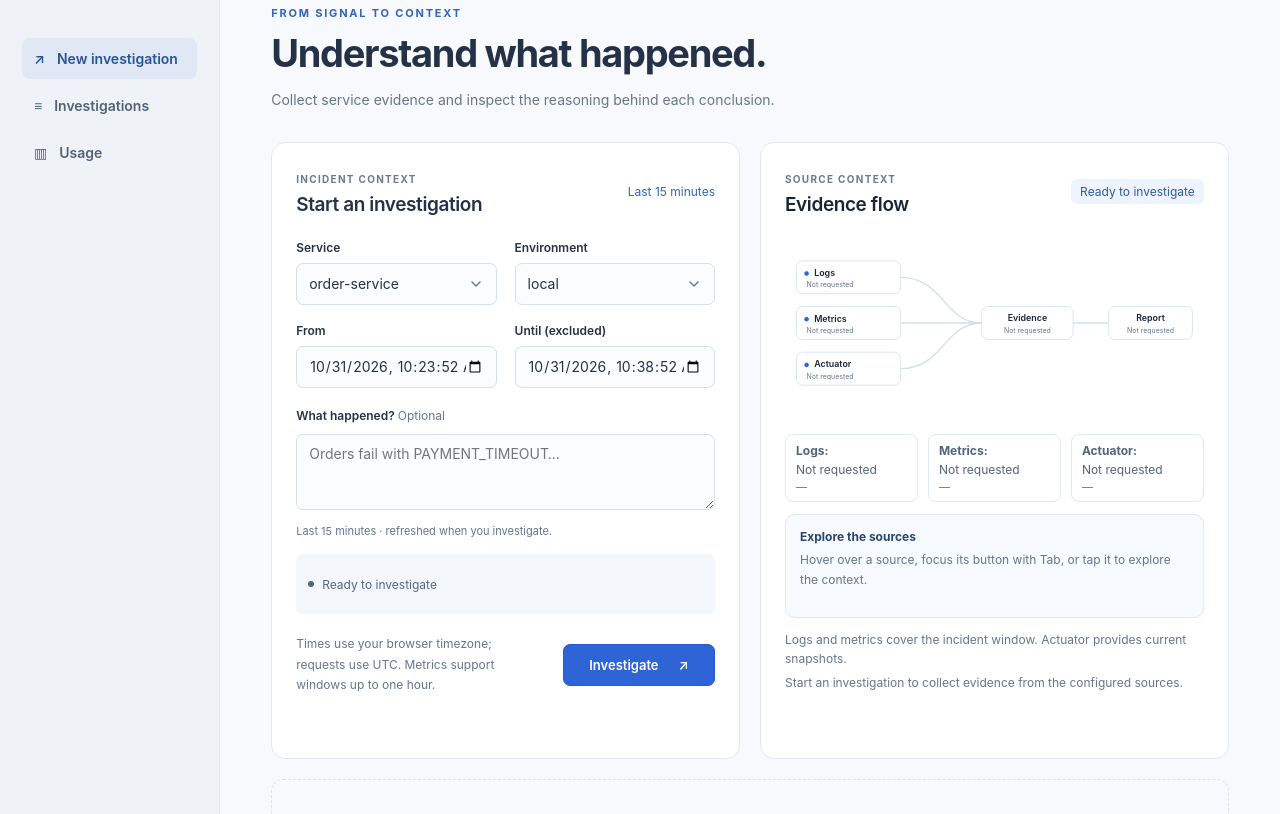
Test: investigation workspace › keeps the previous report and its selected tab during a new request, cancellation and failure
Click the button "Investigate ↗" at (639, 665), box left=563, top=644, right=715, bottom=686
(page scrolled)
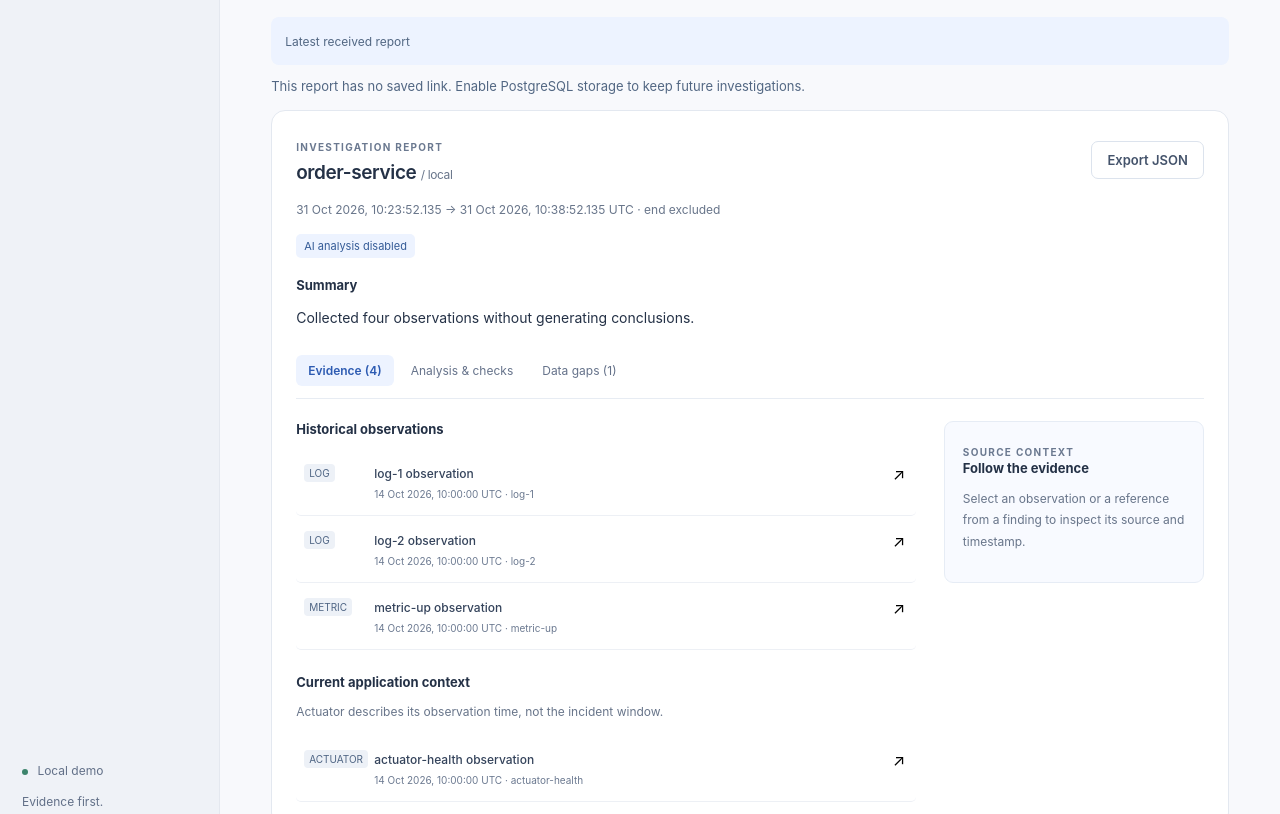
Click the button "Data gaps (1)" at (579, 370), box left=530, top=355, right=628, bottom=386
(page scrolled)
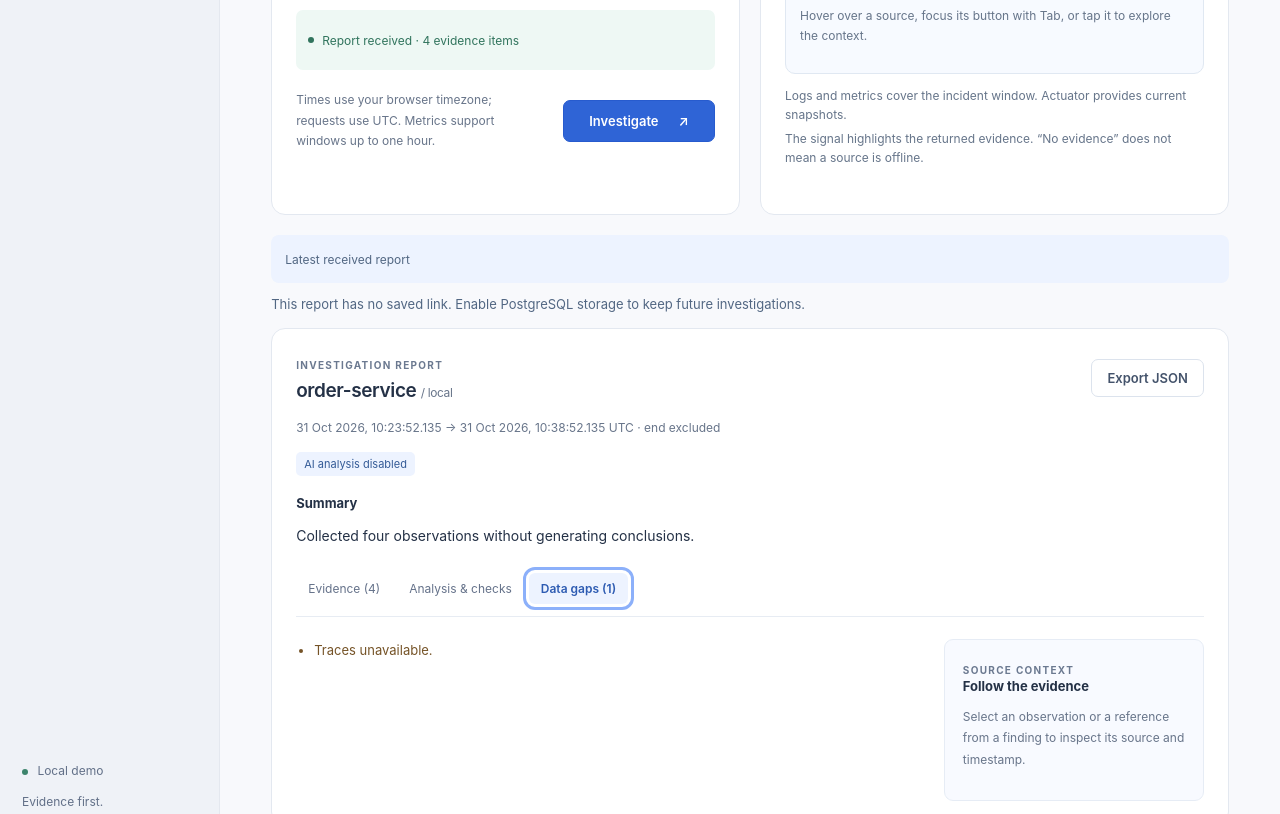
Result: the list item "Traces unavailable." is shown at left=314, top=642, right=433, bottom=658
Click the button "Investigate ↗" at (639, 121), box left=563, top=100, right=715, bottom=142
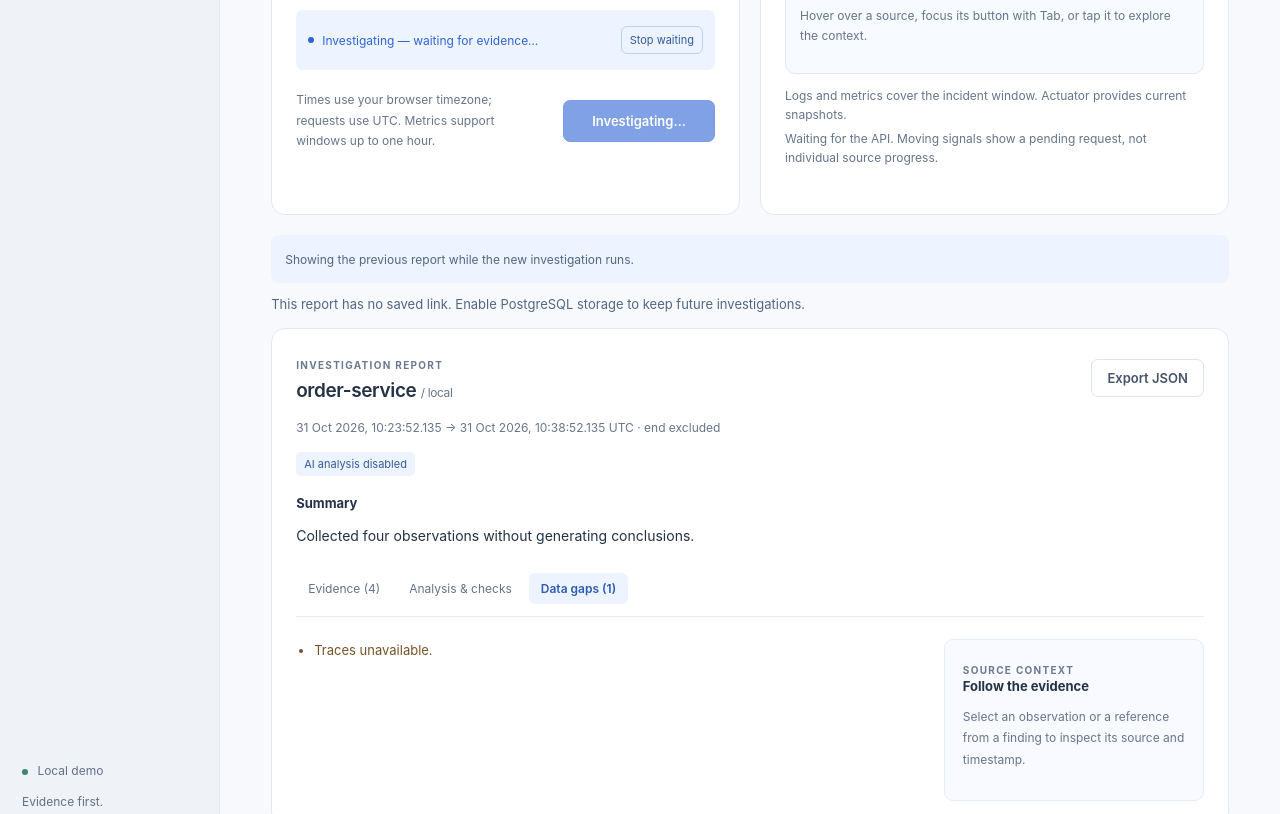
Result: the list item "Traces unavailable." is shown at left=314, top=642, right=433, bottom=658
Result: the text "Showing the previous report while the new investigation runs." is shown at left=271, top=235, right=1229, bottom=283
Click the button "Stop waiting" at (662, 40), box left=621, top=26, right=703, bottom=54
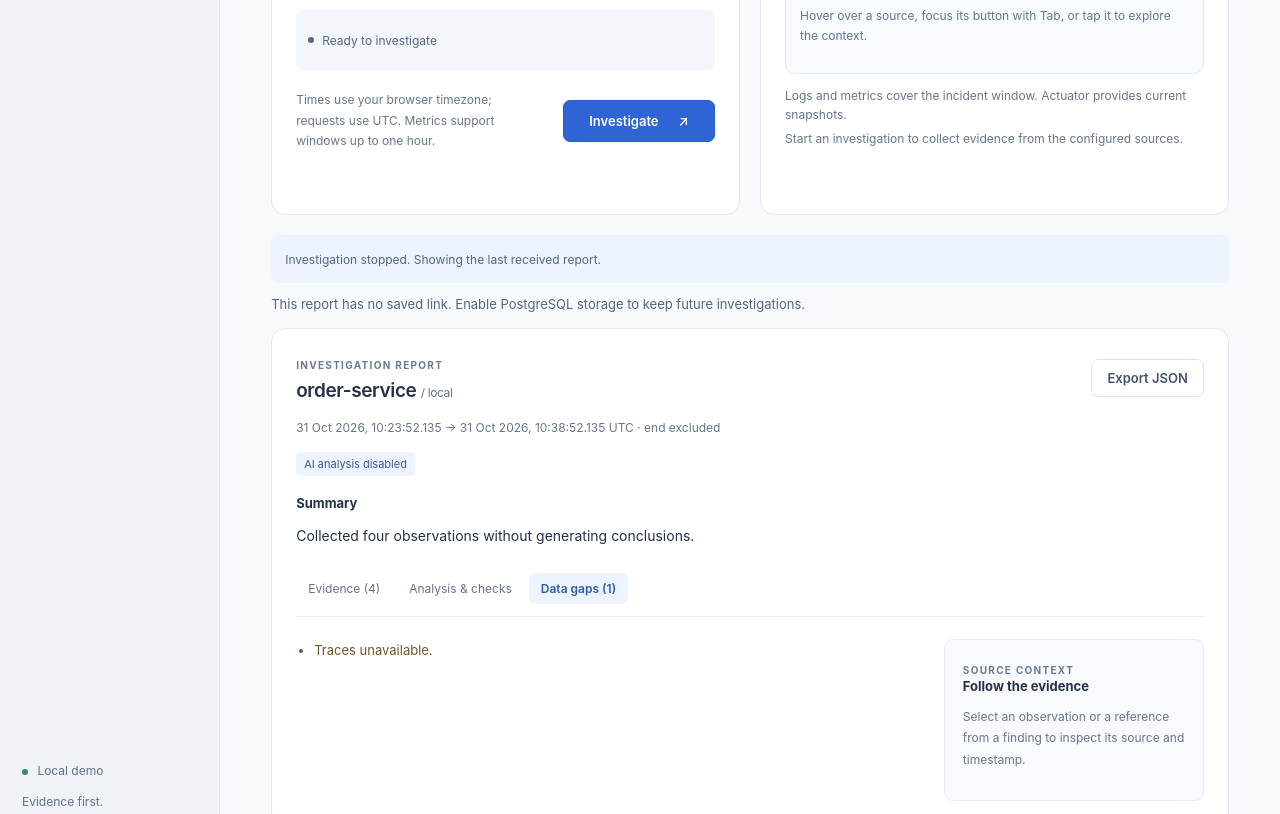
Result: the text "Investigation stopped. Showing the last received report." is shown at left=271, top=235, right=1229, bottom=283
Click the button "Investigate ↗" at (639, 121), box left=563, top=100, right=715, bottom=142
(page scrolled)
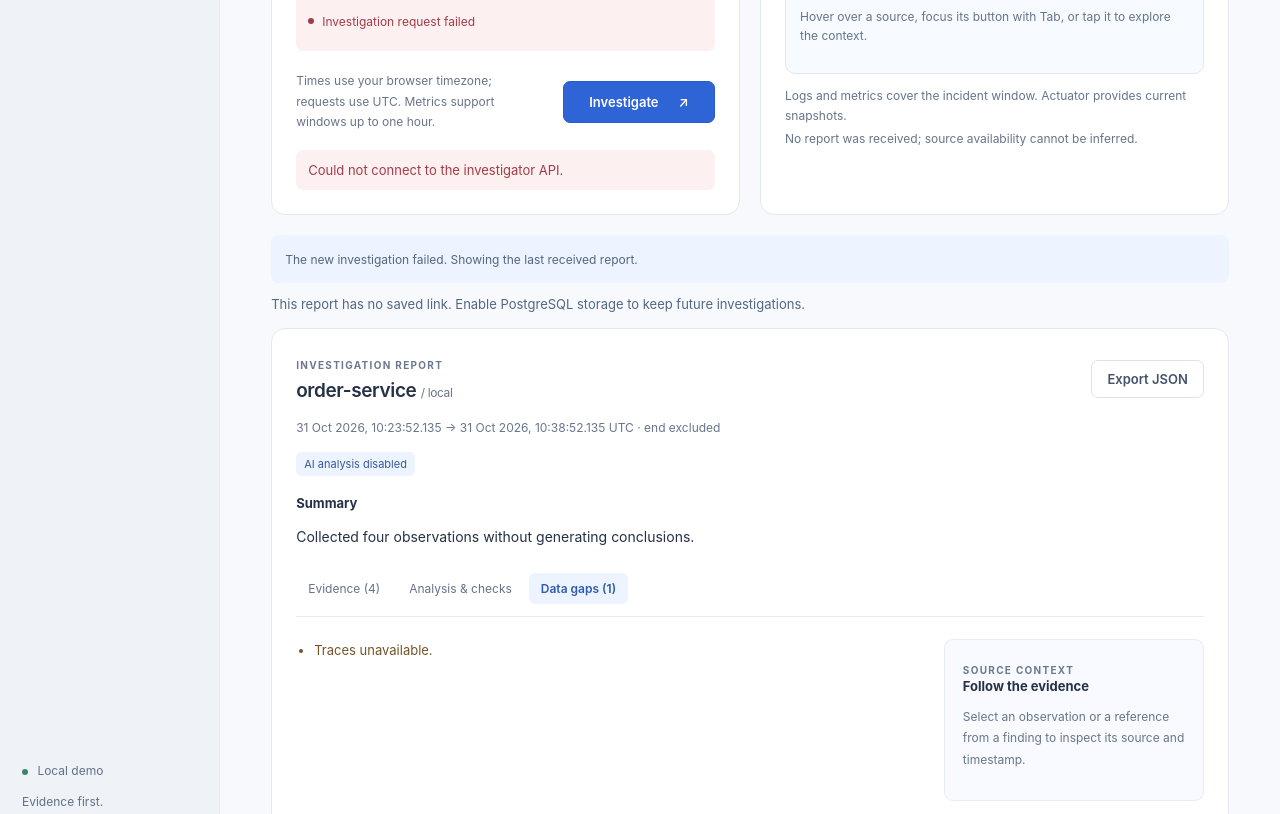
Result: the list item "Traces unavailable." is shown at left=314, top=642, right=433, bottom=658
Result: the message "Could not connect to the investigator API." is shown at left=296, top=150, right=715, bottom=190
Result: the text "The new investigation failed. Showing the last received report." is shown at left=271, top=235, right=1229, bottom=283
